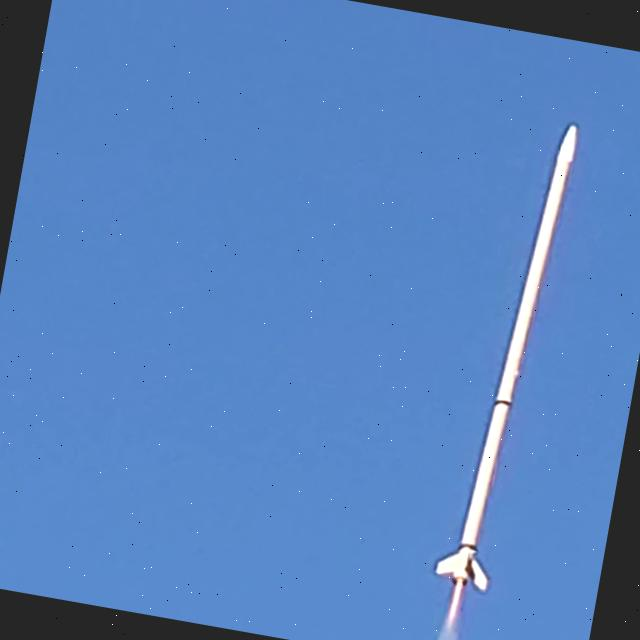rocket: (436, 125, 577, 625)
